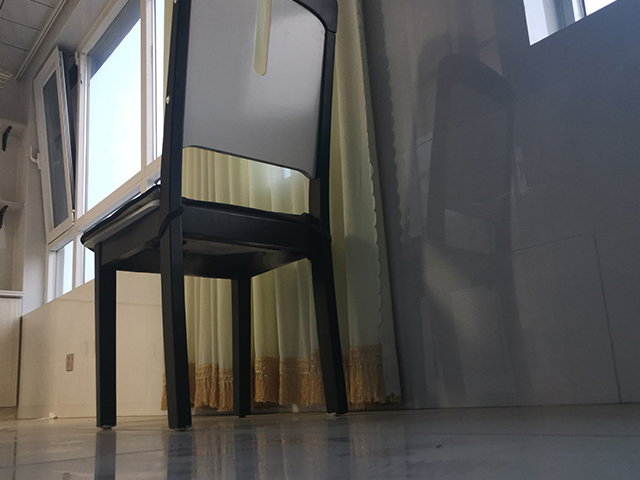curtain: (158, 1, 405, 414)
stool: (74, 1, 351, 432)
